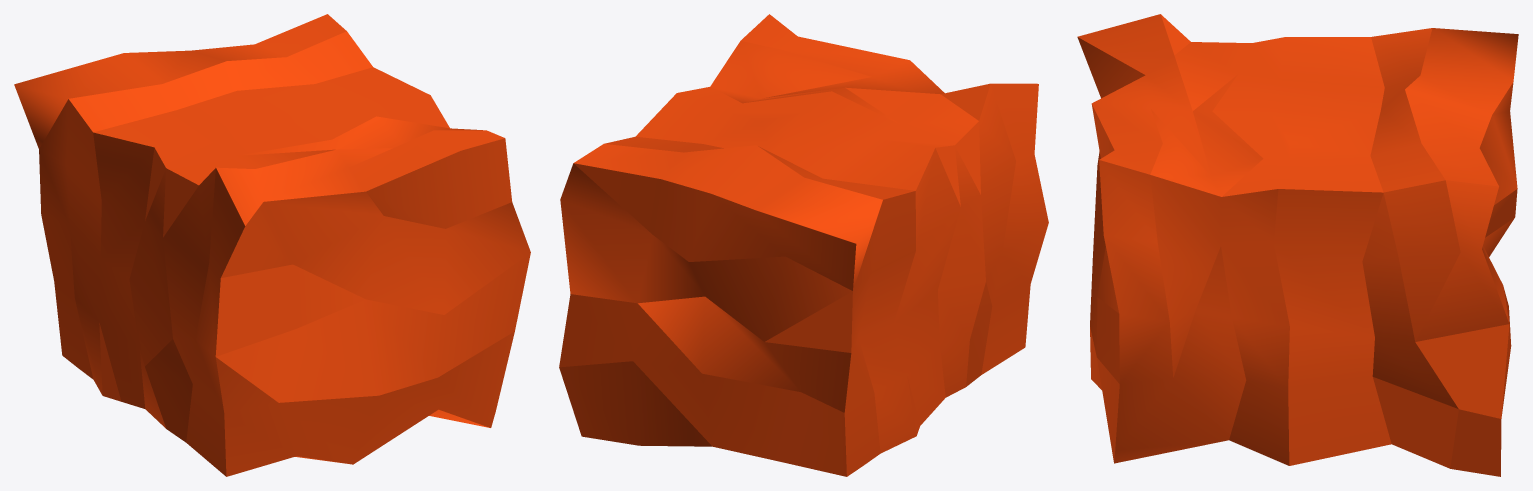
Rendered from Hay_2.fbx.
3 views of the same model, side by side, from view 1: azimuth 30°, elevation 25°; view 2: azimuth 150°, elevation 25°; view 3: azimuth 270°, elevation 25° (orthographic). The views are drawn at different scales.
Visible parts, largest first — view 1: Hay_2; view 2: Hay_2; view 3: Hay_2.
Part boxes in pixels (left/top/right/bottom): Hay_2: left=14, top=14, right=530, bottom=476; Hay_2: left=559, top=14, right=1048, bottom=476; Hay_2: left=1077, top=14, right=1518, bottom=476.
Size of the model in its own units: 22.46 by 20.86 by 25.15.
